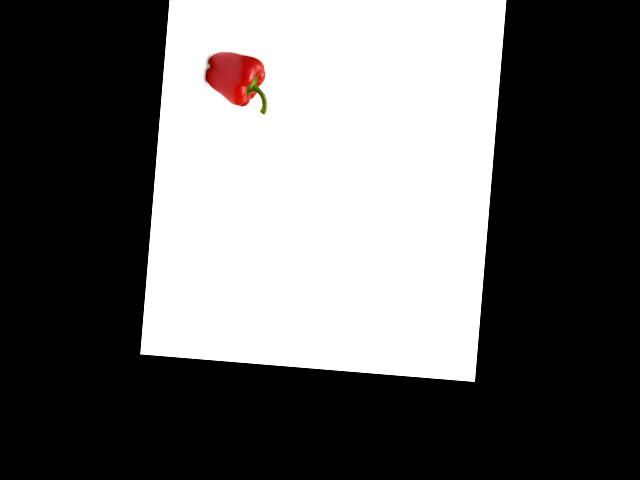bell_pepper: (198, 47, 275, 116)
